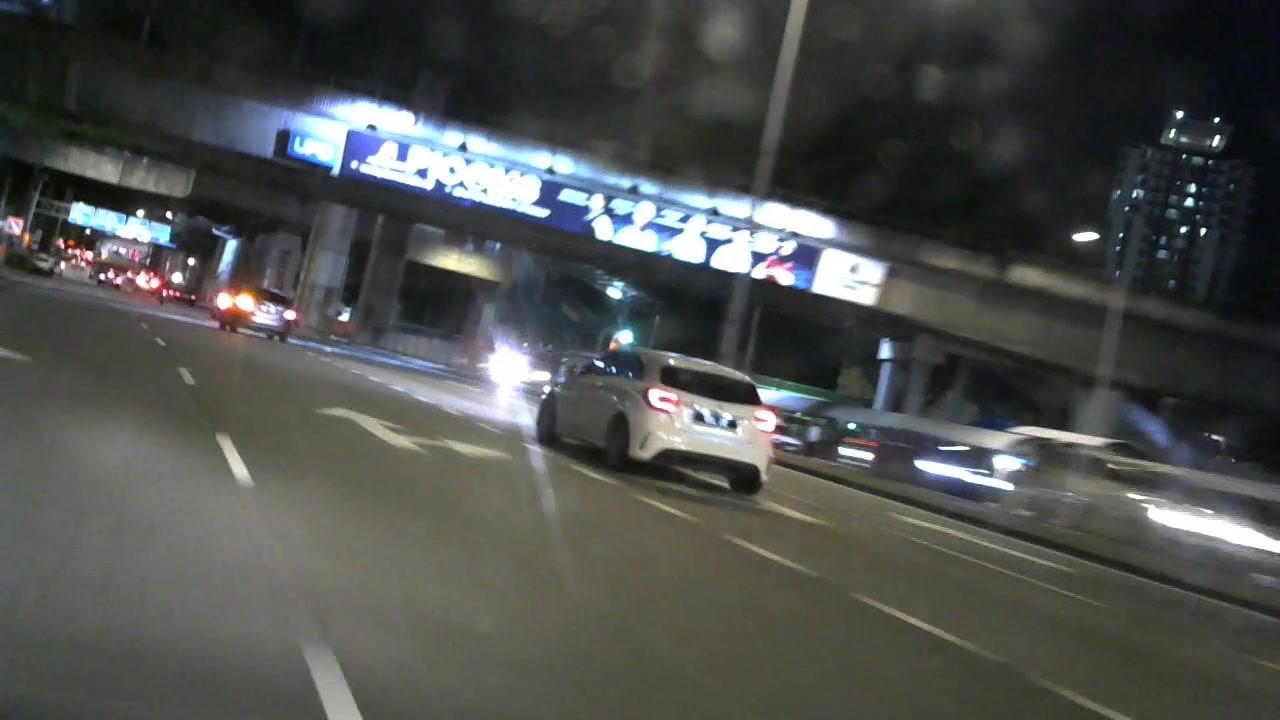Car: (533, 339, 778, 501), (210, 283, 301, 349), (90, 260, 127, 292), (24, 252, 64, 278), (162, 284, 201, 309)
